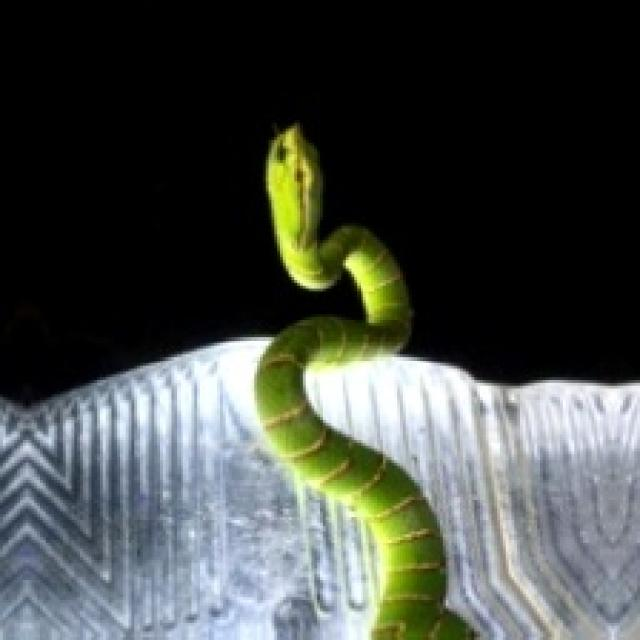north ph temple pitviper: (254, 126, 474, 637), (254, 126, 471, 637)
